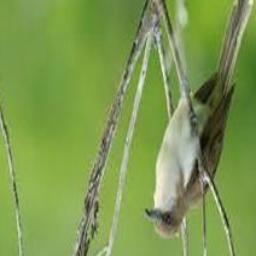Cuckoo: (145, 0, 255, 237)
